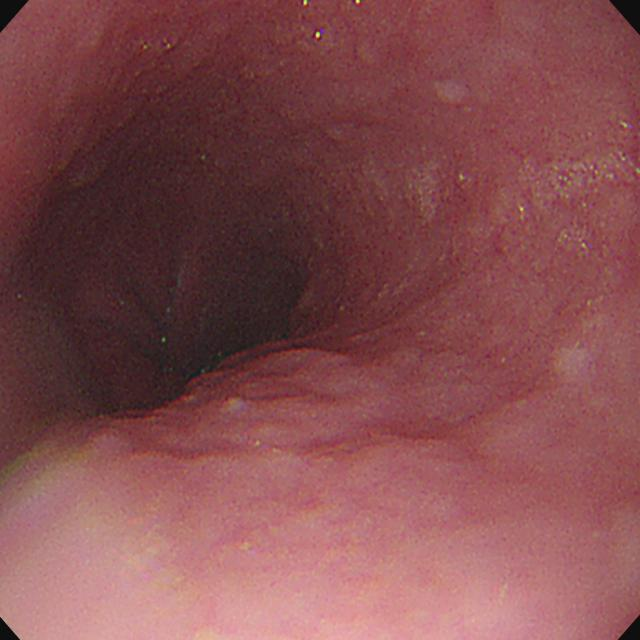J: (403, 166, 440, 221)
T: (551, 149, 640, 203)
